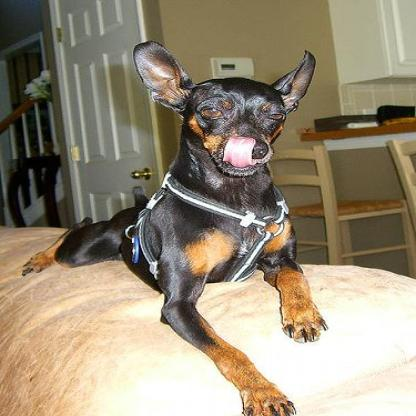miniature_pinscher: (19, 36, 327, 414)
